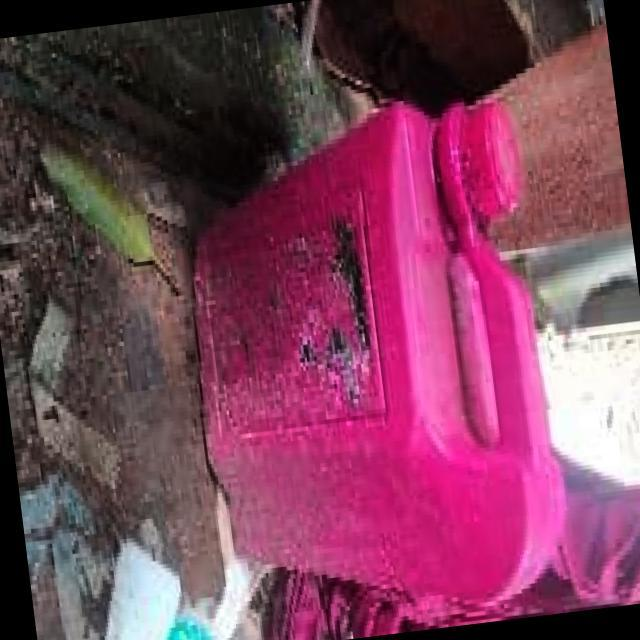HDPE Plastic: (186, 89, 570, 604)
